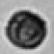correct: (5, 6, 52, 52)
